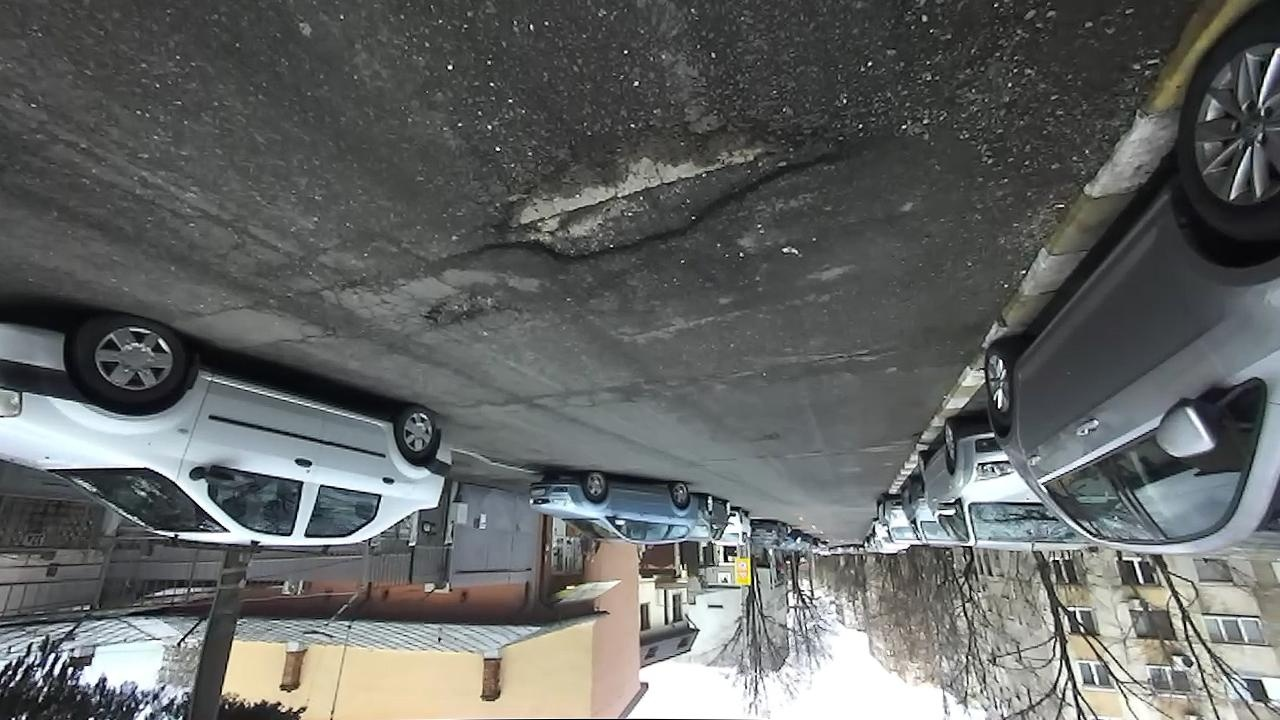pothole: (439, 110, 876, 271), (414, 291, 515, 339), (806, 340, 892, 370)
